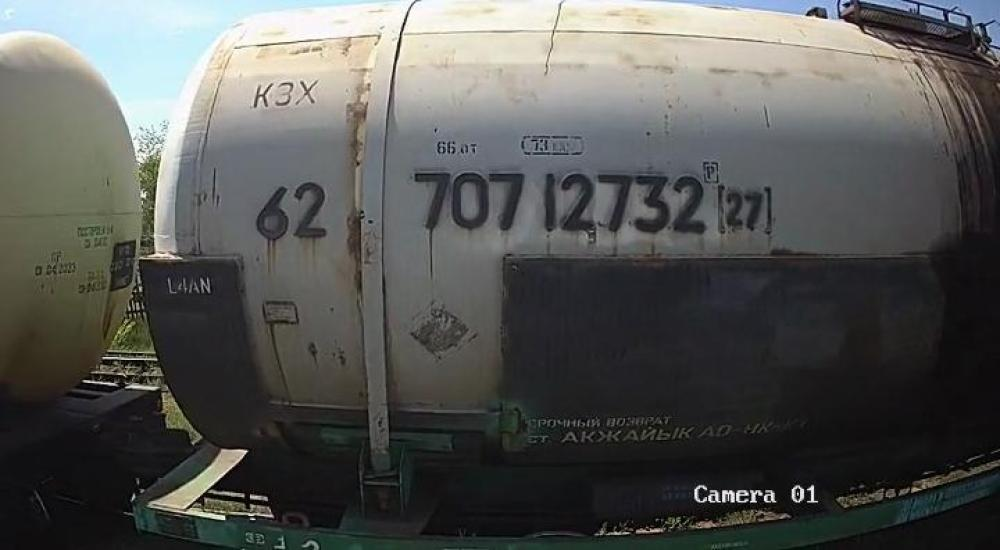Wagon-number: (407, 166, 711, 238)
